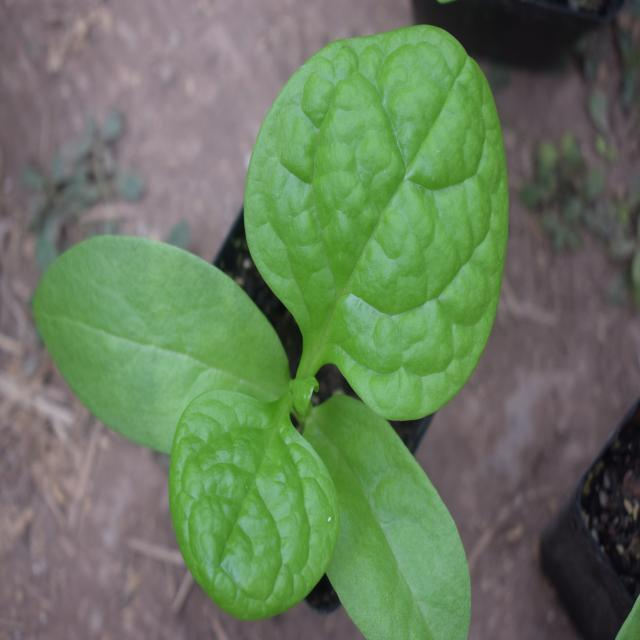Ceylon spinach: (62, 29, 500, 620)
